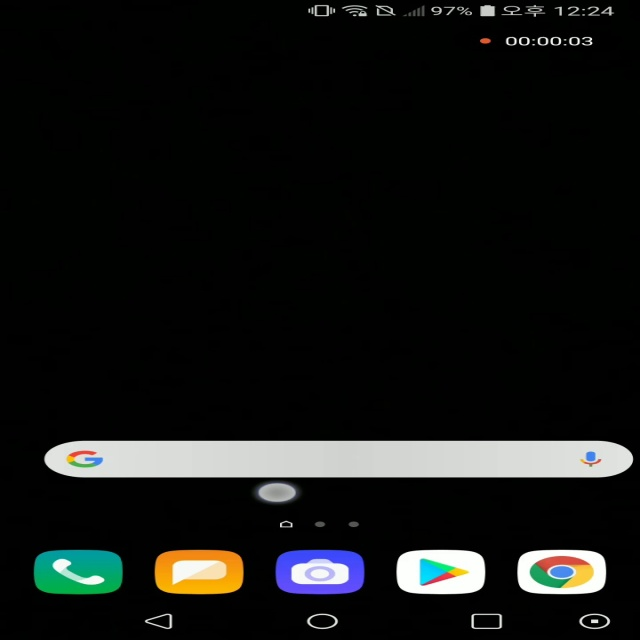Cursor: (256, 483, 300, 505)
